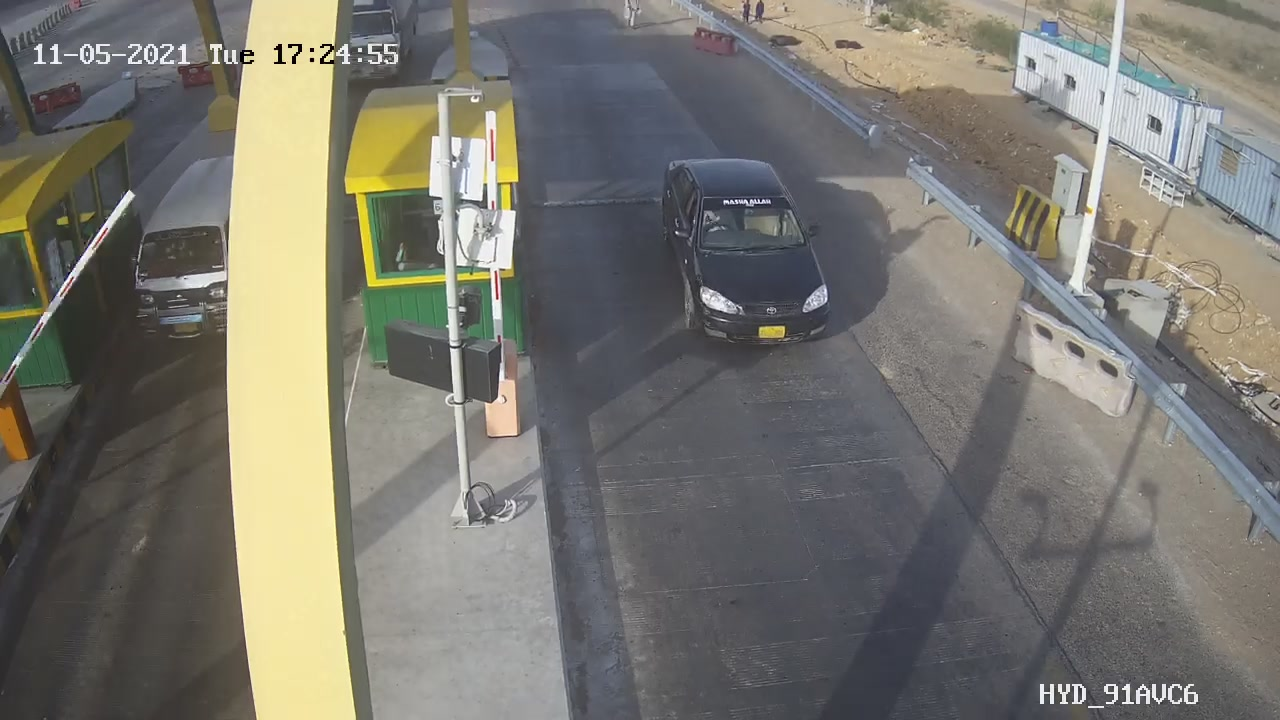F1: (643, 140, 850, 375)
